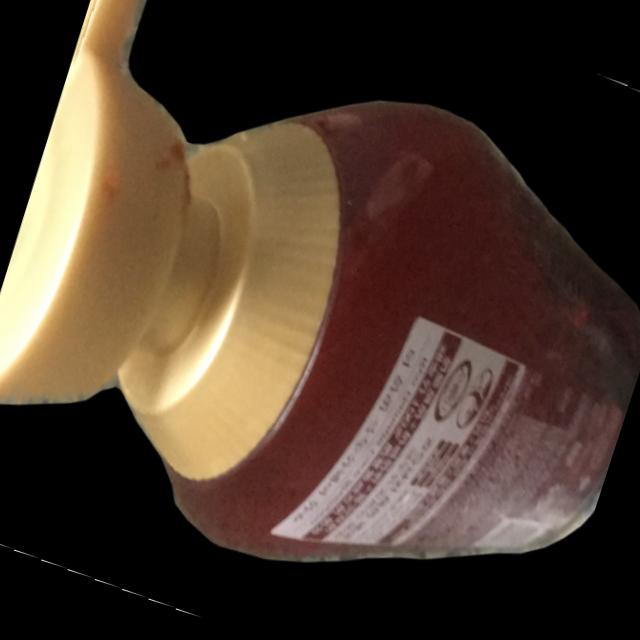plastic: (0, 0, 640, 564)
